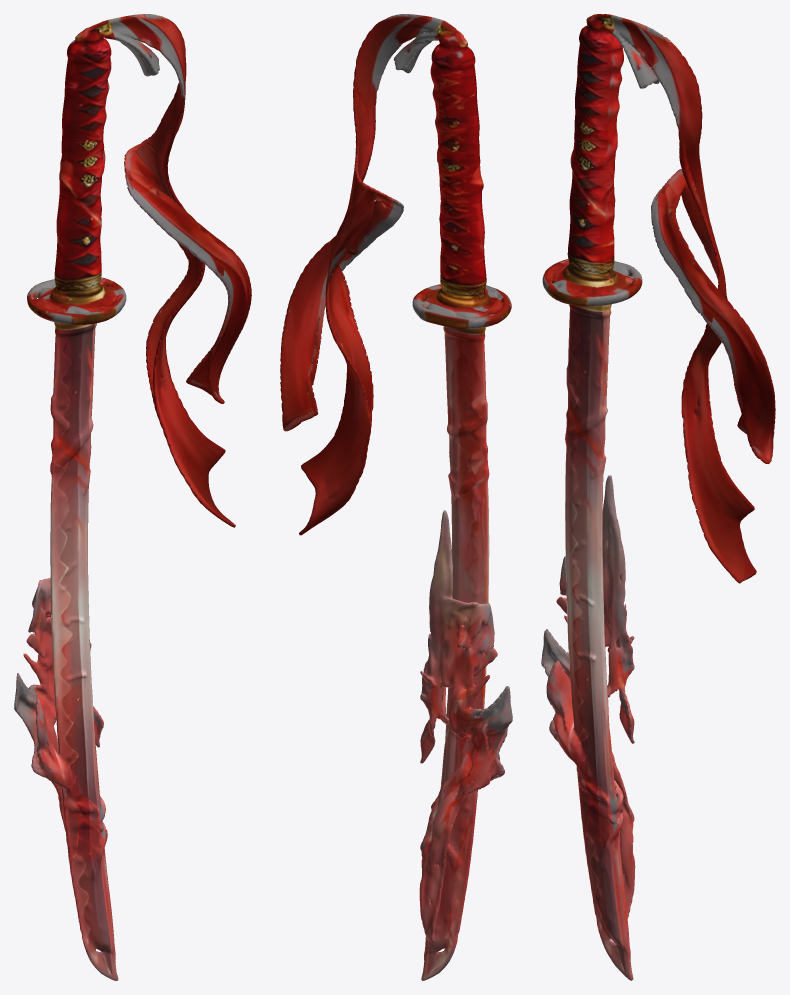
Rendered from flaming+sword+3d+model.glb.
The picture shows the model from 3 angles, left to right: view 1: azimuth 30°, elevation 25°; view 2: azimuth 150°, elevation 25°; view 3: azimuth 330°, elevation 25°; orthographic projection.
Parts seen in each view (by area): view 1: tripo_node_102973fa-4338-4855-b816-e9c928958f36; view 2: tripo_node_102973fa-4338-4855-b816-e9c928958f36; view 3: tripo_node_102973fa-4338-4855-b816-e9c928958f36.
Part boxes in pixels (x1,y1,x2,y2): tripo_node_102973fa-4338-4855-b816-e9c928958f36: (14,14,251,980); tripo_node_102973fa-4338-4855-b816-e9c928958f36: (280,14,512,980); tripo_node_102973fa-4338-4855-b816-e9c928958f36: (541,14,775,980).
Bounding box in the file's own units: 0.2511 × 1 × 0.0856.
Materials: 1 (1 with a texture image).
